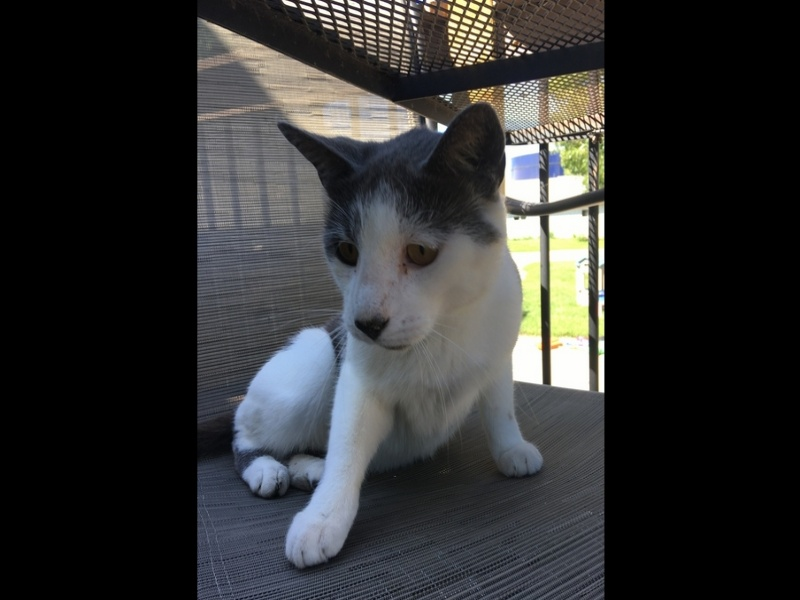cat: (233, 103, 545, 580)
